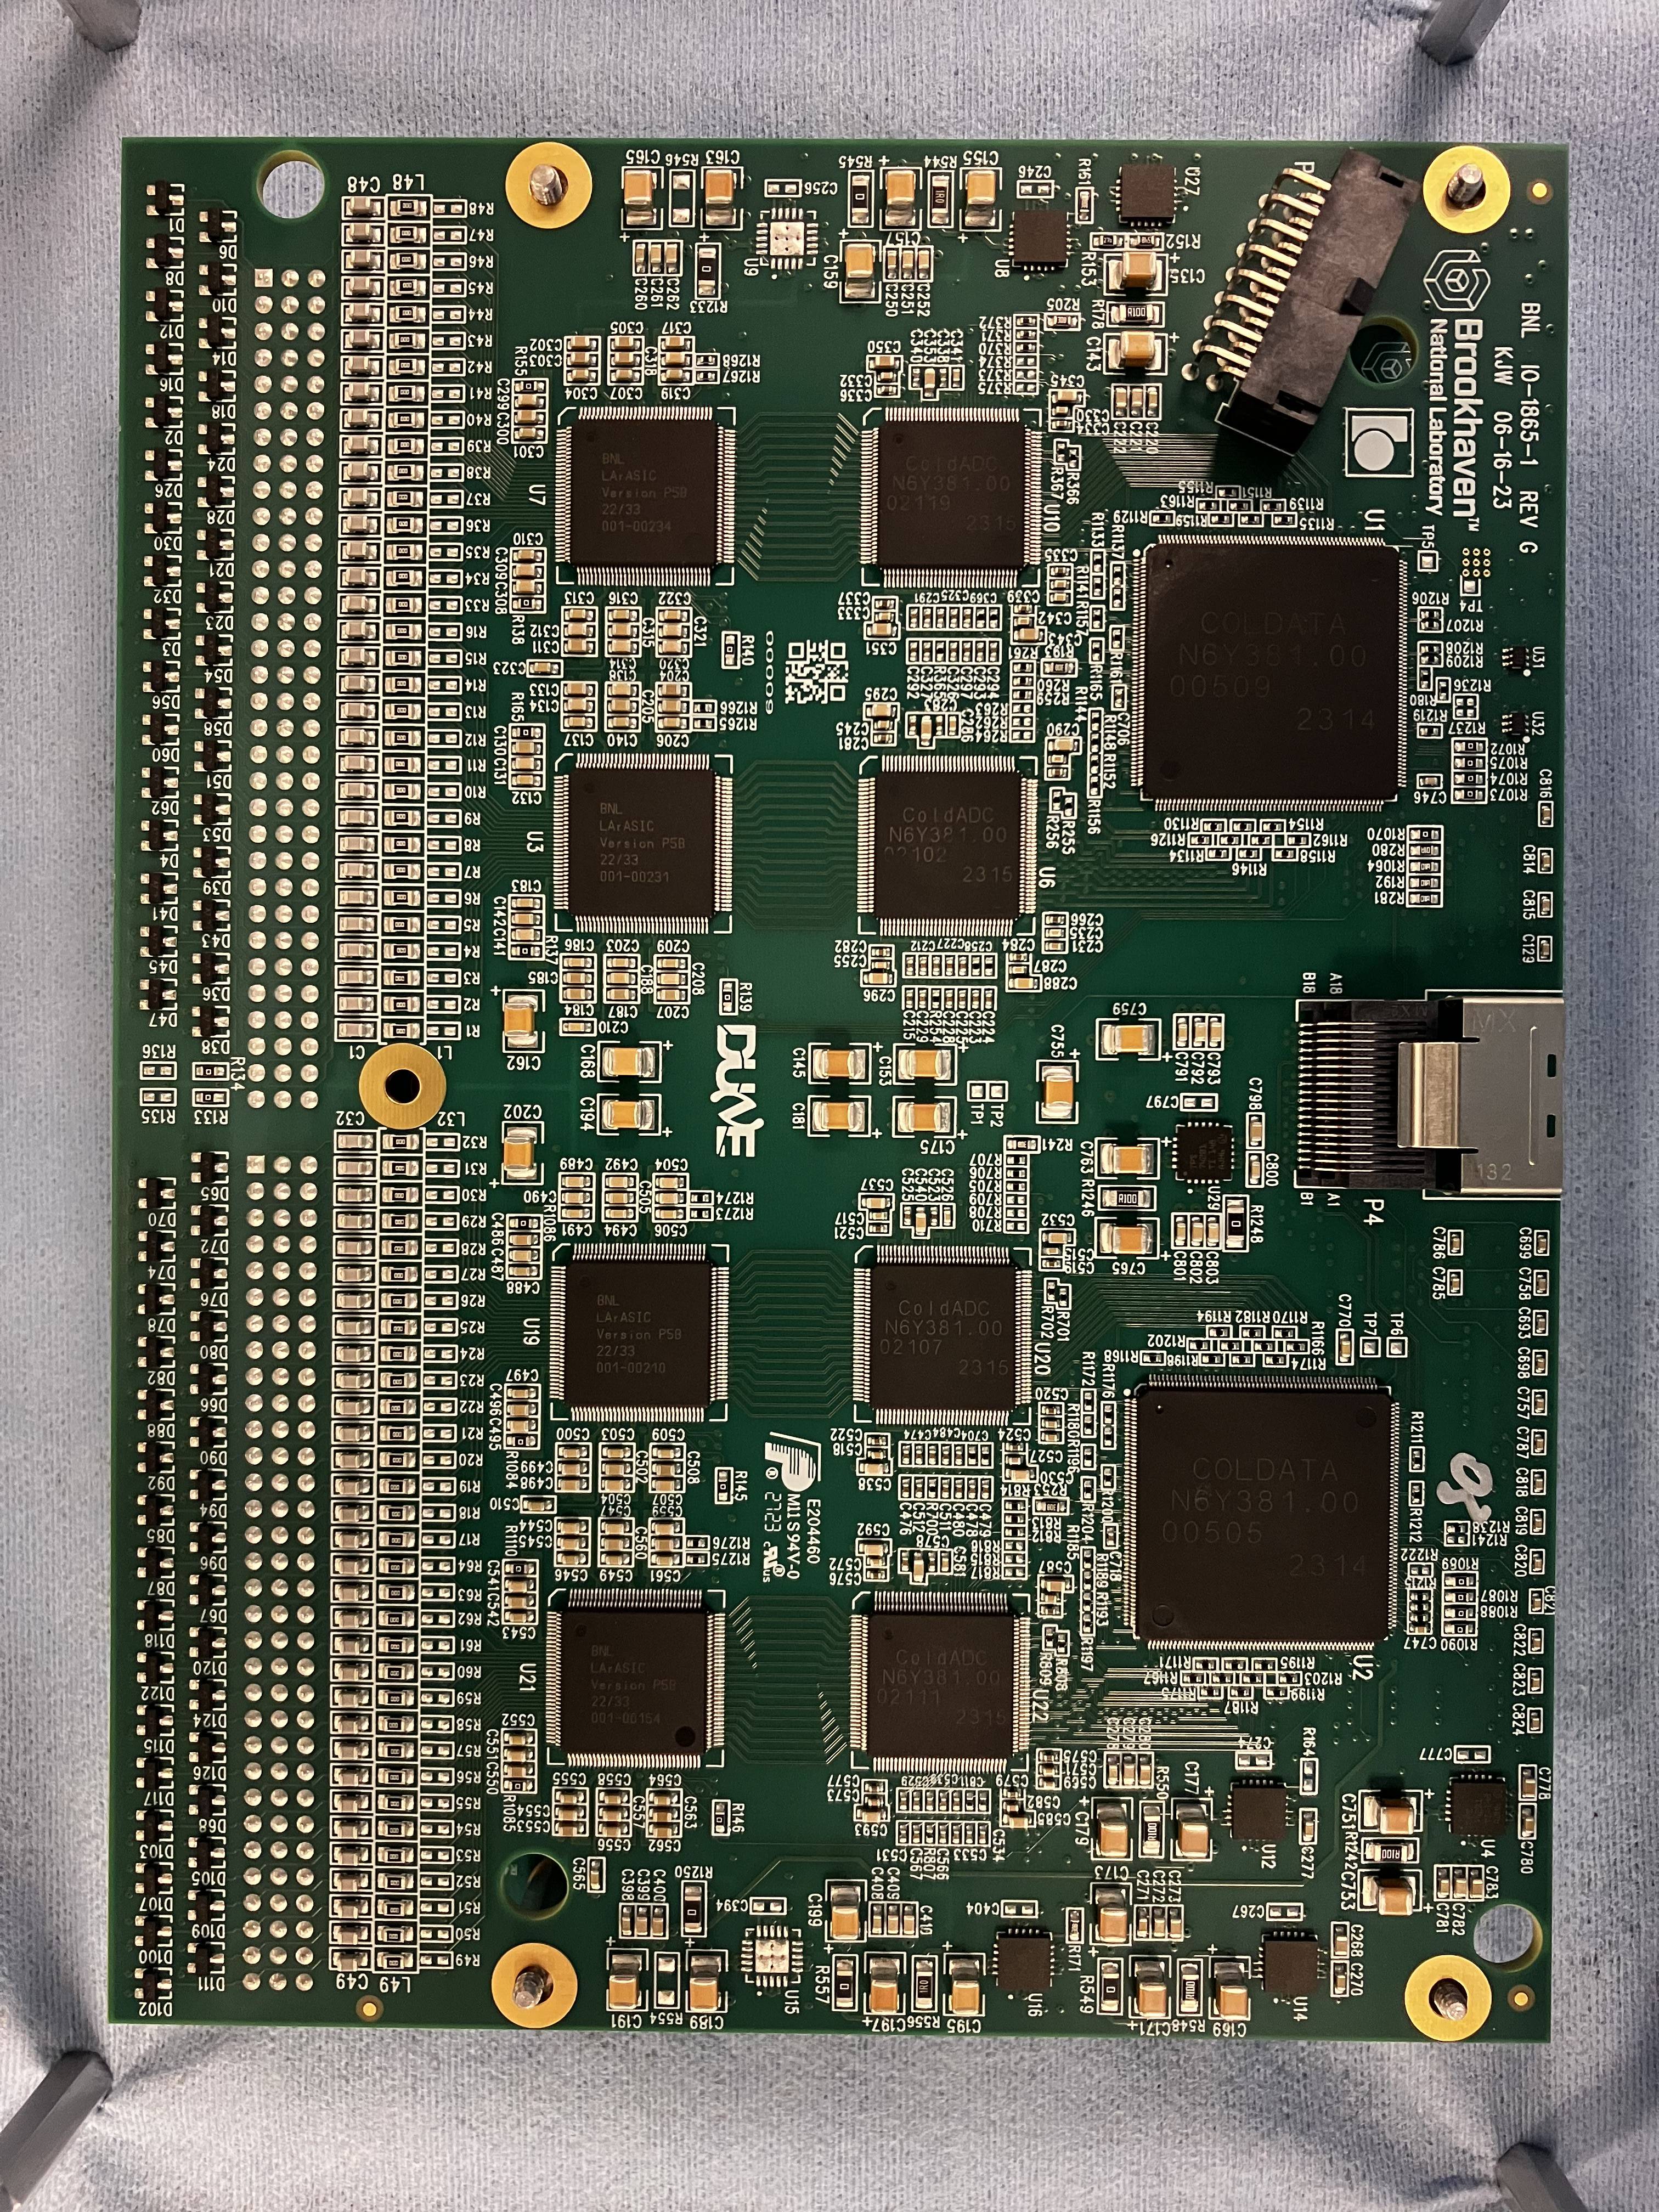chip: (1136, 1383, 1392, 1641), (1143, 543, 1399, 801), (570, 420, 718, 568), (877, 421, 1025, 570), (566, 770, 714, 918), (871, 1261, 1019, 1409), (561, 1604, 709, 1752), (868, 1611, 1016, 1759), (875, 770, 1021, 918), (565, 1263, 711, 1411)
